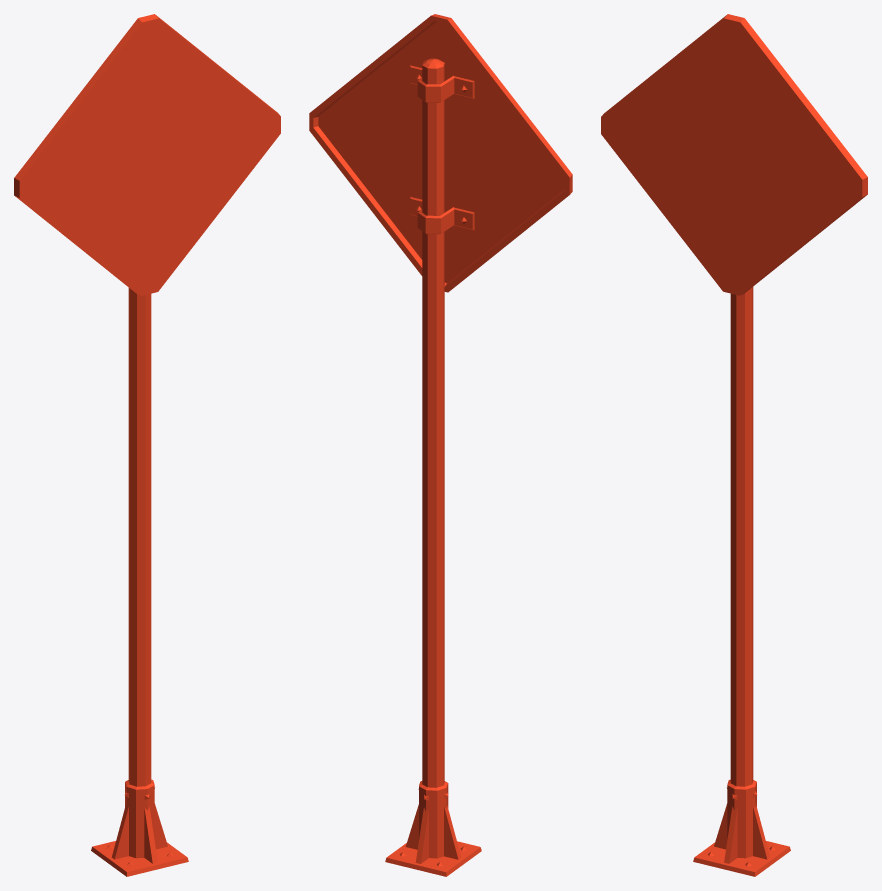
File: SM_Sign_Yeild_Ahead_B_City.fbx
3 views of the same model, side by side, from view 1: azimuth 30°, elevation 25°; view 2: azimuth 150°, elevation 25°; view 3: azimuth 330°, elevation 25° (orthographic).
Visible parts, largest first — view 1: SM_Sign_Yeild_Ahead_B_City; view 2: SM_Sign_Yeild_Ahead_B_City; view 3: SM_Sign_Yeild_Ahead_B_City.
Boxes of the visible parts, x1,y1,x2,y2 form: SM_Sign_Yeild_Ahead_B_City: [14, 14, 280, 876]; SM_Sign_Yeild_Ahead_B_City: [309, 14, 572, 876]; SM_Sign_Yeild_Ahead_B_City: [601, 14, 867, 876].
Bounding box in the file's own units: 0.7813 × 2.39 × 0.1839.
